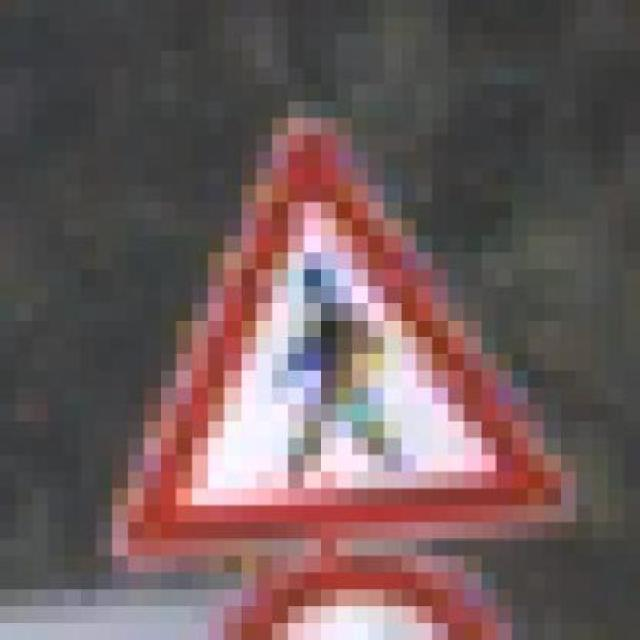Pedestrian Crossing: (95, 101, 592, 573)
